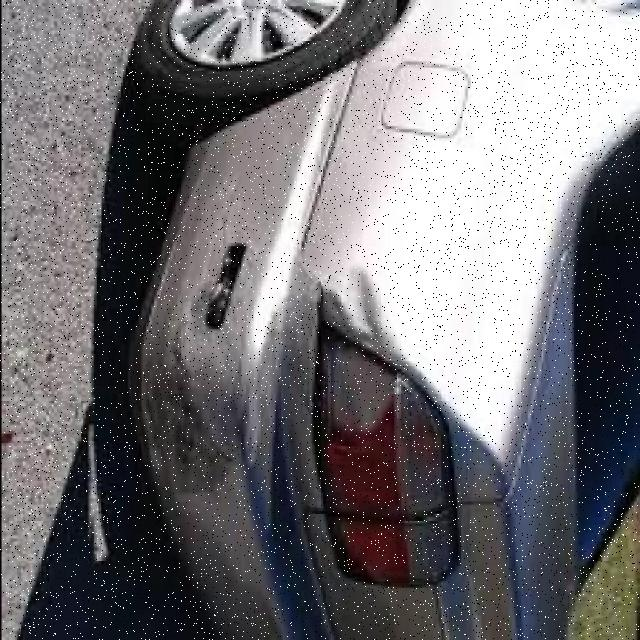damage: (137, 174, 315, 510), (327, 254, 387, 353)
